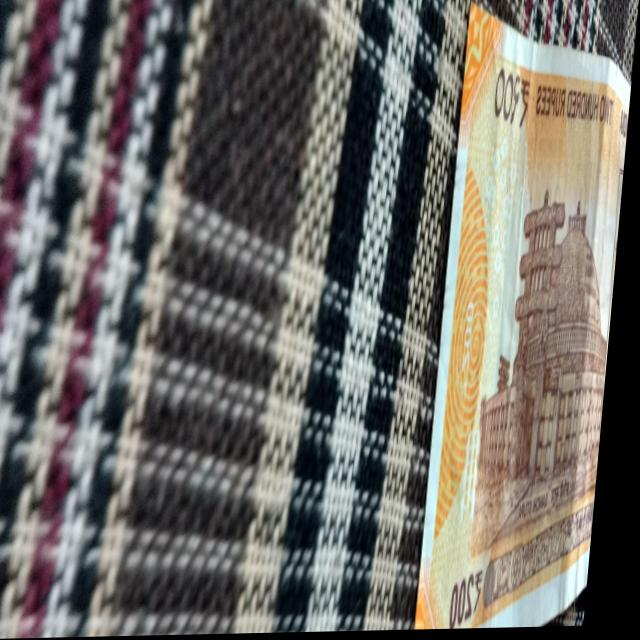Currency: (381, 23, 638, 633)
